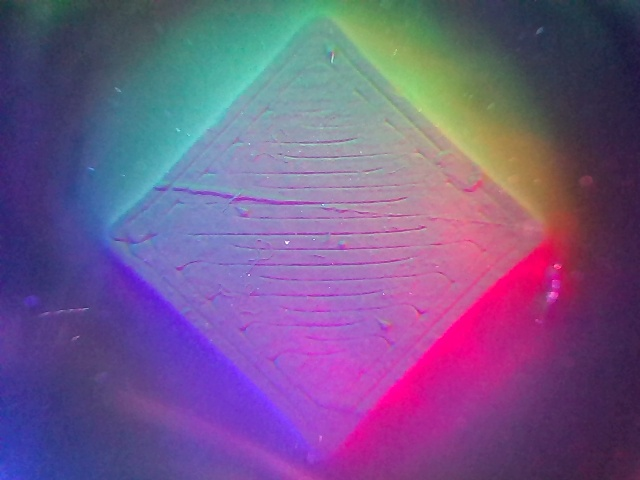contact: (111, 18, 540, 452)
